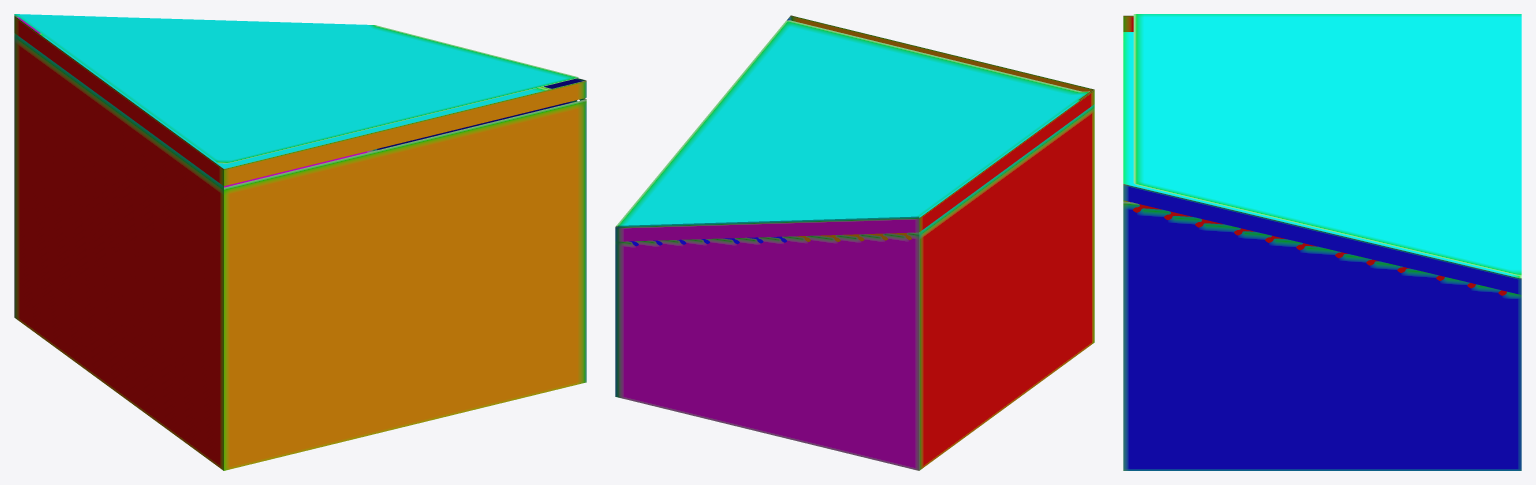
The model's file is house05_02.FBX.
3 renders of one model, left to right at view 1: azimuth 30°, elevation 25°; view 2: azimuth 150°, elevation 25°; view 3: azimuth 270°, elevation 25°, orthographic. The views are drawn at different scales.
Parts seen in each view (by area): view 1: House05_base_02, House05_roof_01; view 2: House05_base_02, House05_roof_01; view 3: House05_base_02, House05_roof_01.
Part boxes in pixels (bbox=[...]): House05_base_02: bbox=[14, 33, 586, 470]; House05_roof_01: bbox=[14, 14, 586, 185]; House05_base_02: bbox=[615, 100, 1094, 470]; House05_roof_01: bbox=[615, 15, 1094, 241]; House05_base_02: bbox=[1123, 32, 1521, 470]; House05_roof_01: bbox=[1123, 14, 1521, 294].
Bounding box in the file's own units: 100 × 80 × 100.
Materials: 1 (1 with a texture image).
